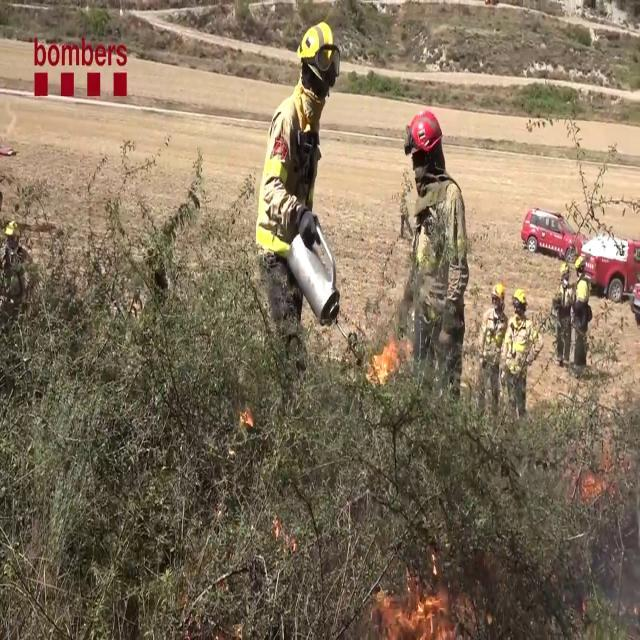Fire: (368, 325, 402, 391)
